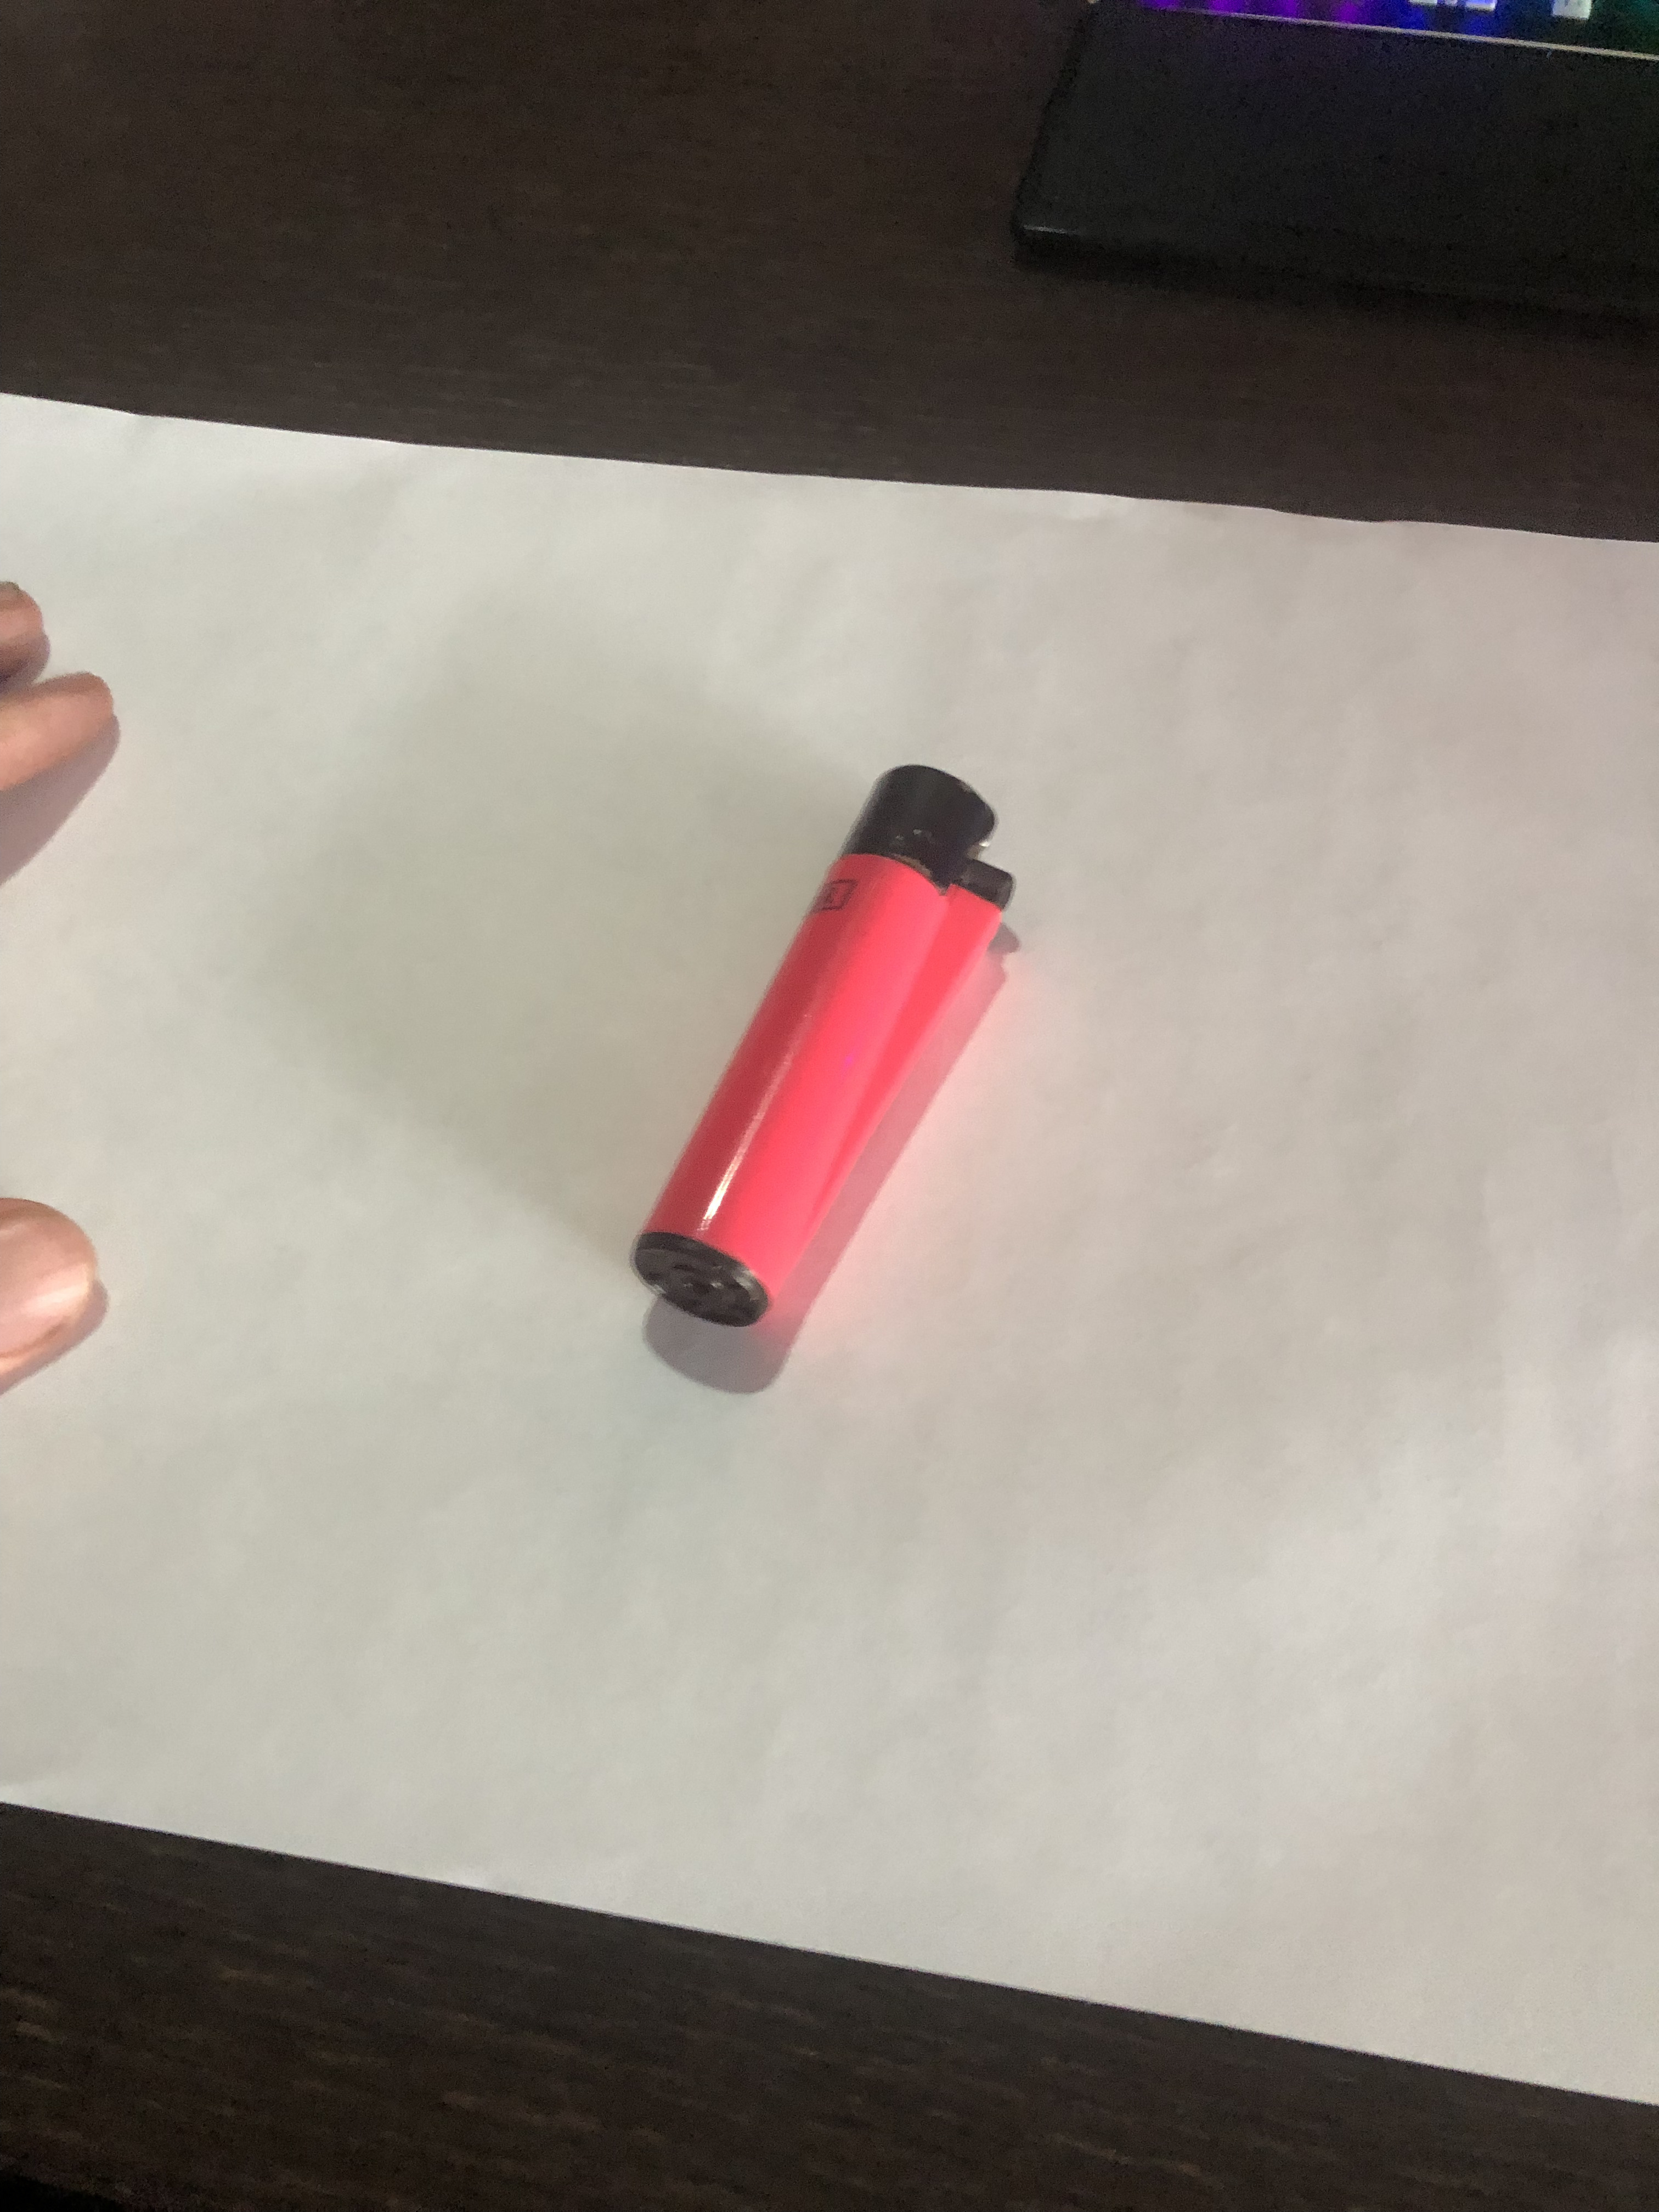Mechero: (629, 730, 1047, 1366)
